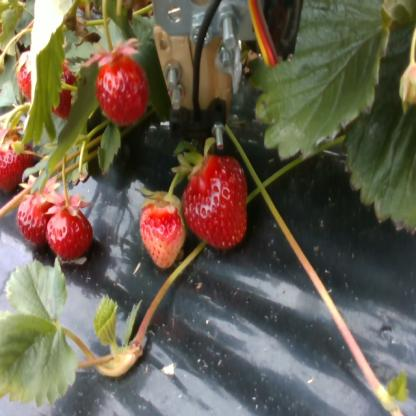ripe: (184, 146, 252, 251), (96, 46, 150, 126), (16, 184, 59, 249), (48, 202, 90, 262), (0, 126, 34, 192), (46, 55, 78, 117), (19, 46, 43, 101)
